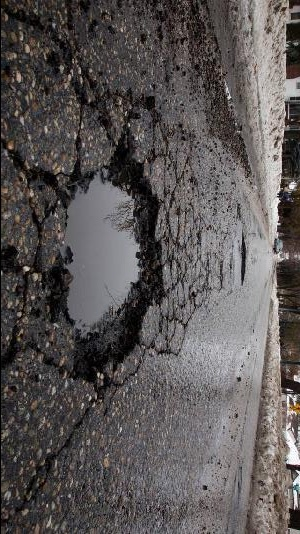pothole: (41, 134, 168, 392), (239, 234, 249, 284)
